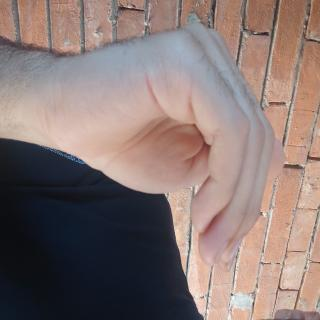HAA: (12, 49, 212, 320)
